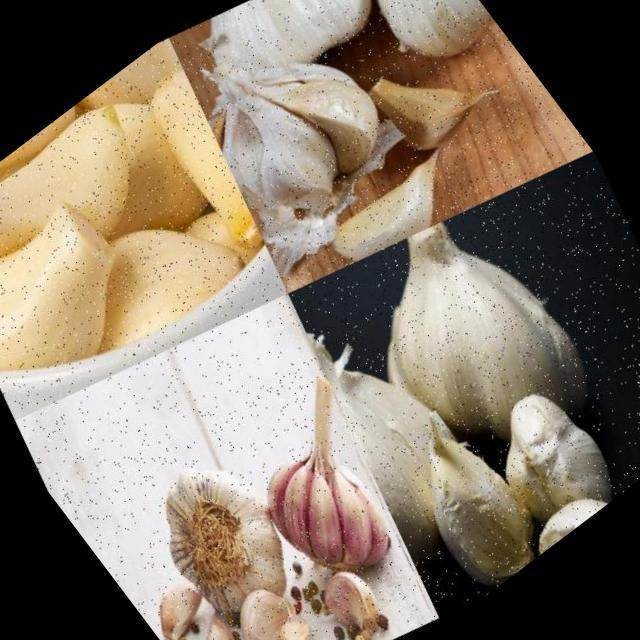garlic: (0, 36, 327, 462), (296, 162, 638, 509), (254, 280, 558, 618), (161, 0, 436, 267), (185, 355, 440, 622), (111, 426, 333, 640), (375, 395, 573, 603), (459, 361, 640, 549), (181, 0, 415, 134), (298, 132, 474, 296), (350, 20, 518, 184), (329, 0, 513, 106), (159, 555, 338, 640), (509, 461, 624, 560), (304, 552, 399, 640), (134, 561, 231, 640)
